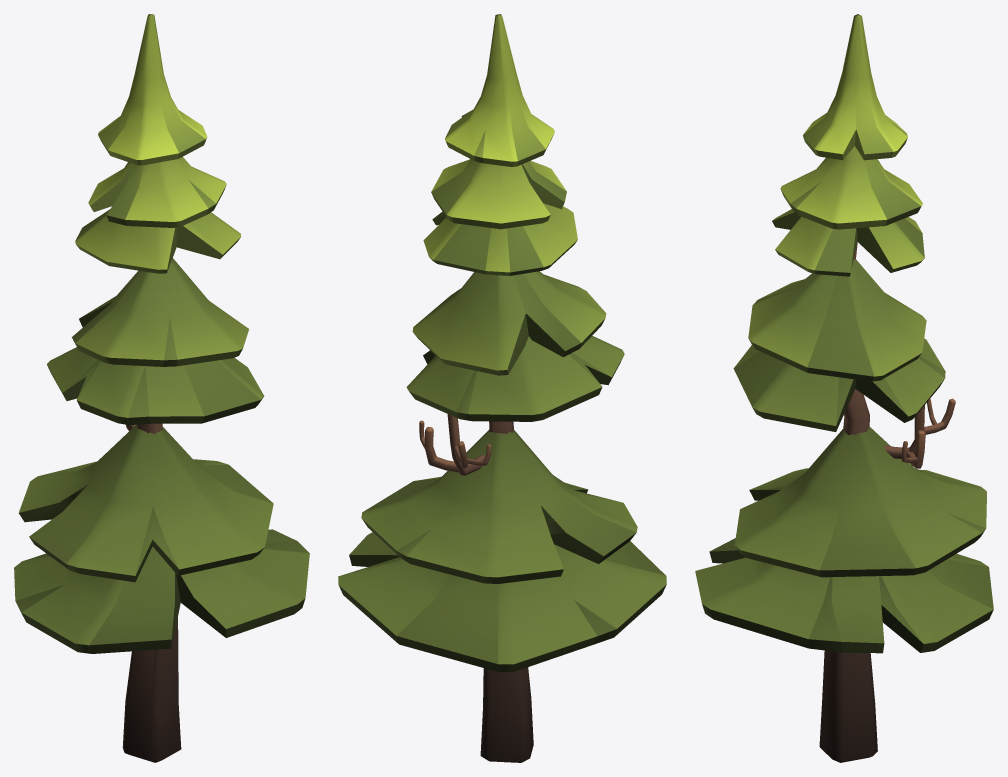
Rendered from pine_tree_col1_01.fbx.
3 views of the same model, side by side, from view 1: azimuth 30°, elevation 25°; view 2: azimuth 150°, elevation 25°; view 3: azimuth 270°, elevation 25° (orthographic).
Visible parts, largest first — view 1: pine_tree_col1_01; view 2: pine_tree_col1_01; view 3: pine_tree_col1_01.
Boxes of the visible parts, x1=… form: pine_tree_col1_01: x1=14, y1=14, x2=309, y2=762; pine_tree_col1_01: x1=338, y1=14, x2=666, y2=762; pine_tree_col1_01: x1=695, y1=14, x2=993, y2=762.
Size of the model in its own units: 586 by 1573 by 575.
Materials: 1 (1 with a texture image).
